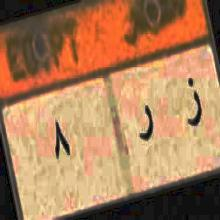8: (48, 115, 72, 170)
raa: (135, 93, 157, 151)
zay: (184, 73, 202, 138)
